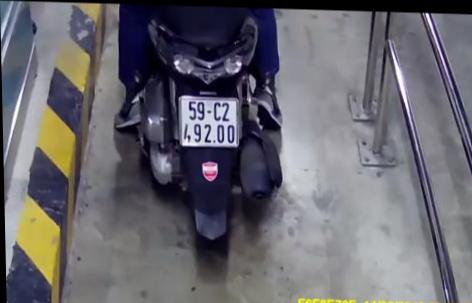LP: (179, 93, 239, 147)
